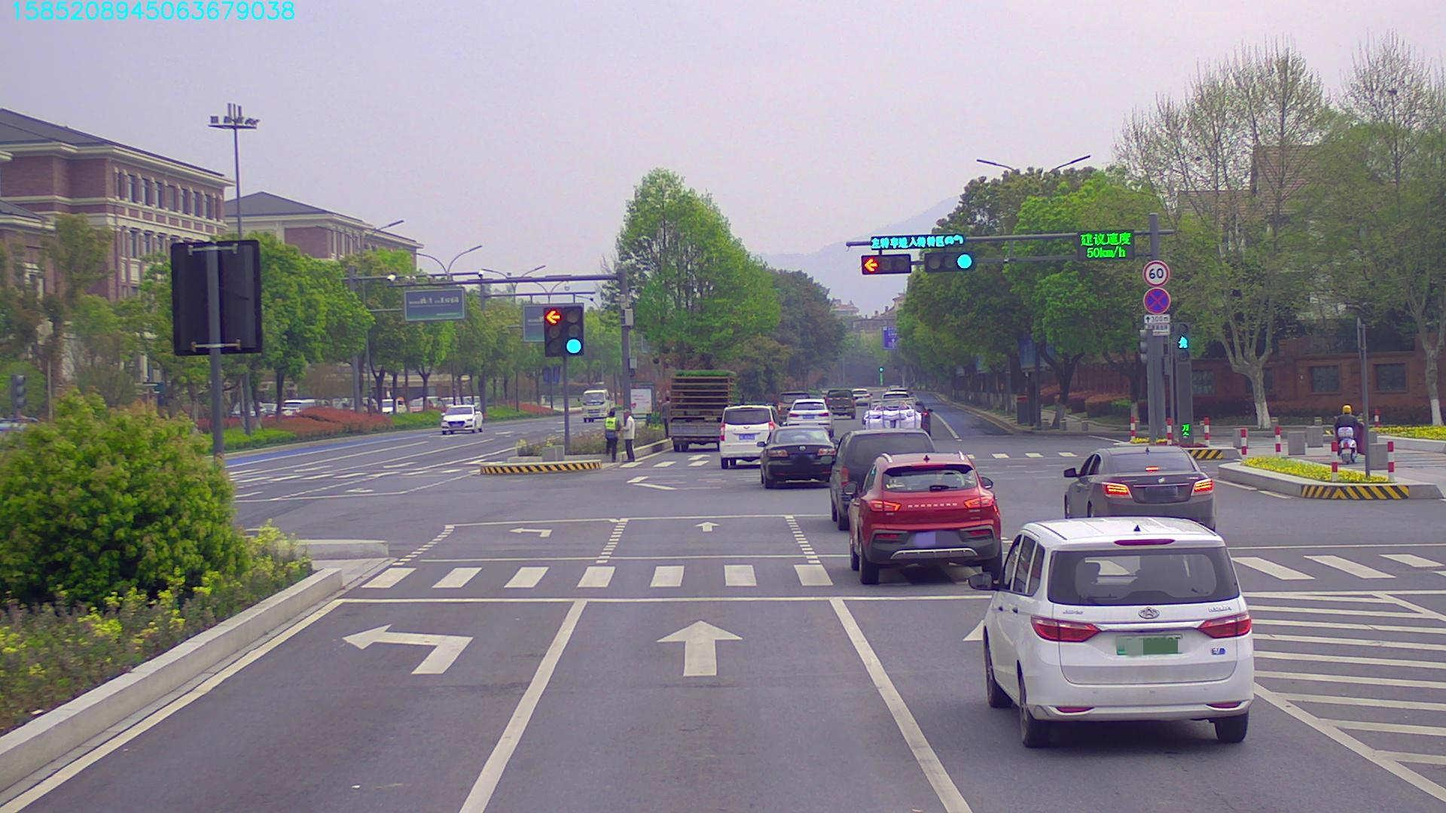green: (924, 254, 975, 275)
red: (860, 253, 908, 278)
wait_on: (870, 233, 966, 251)
